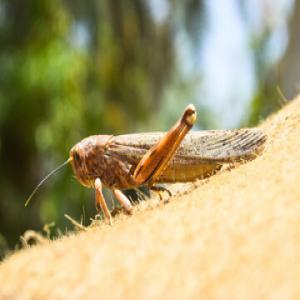locust: (54, 110, 275, 192)
